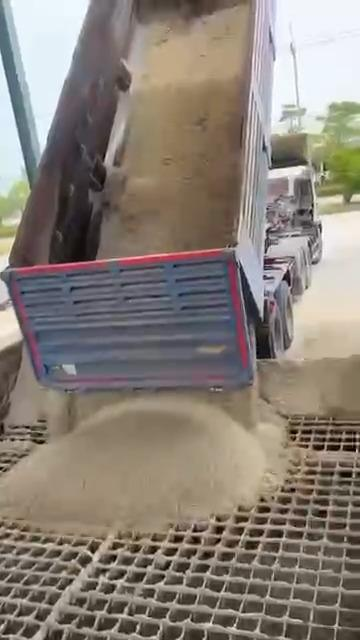sand: (0, 351, 359, 532), (115, 0, 247, 256), (33, 535, 113, 639), (0, 436, 35, 454)
